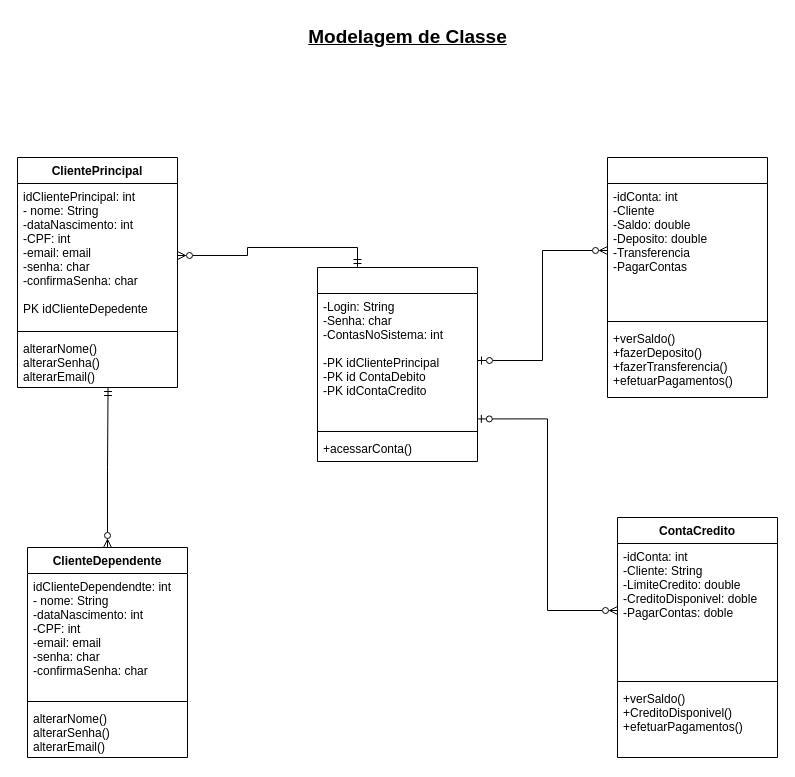
This 795x777 diagram has some shape labels left out. Here are the shapes that lost their labels. From the top down, the box of each, then its label:
(606, 156, 768, 398): ContaDebito
(316, 266, 478, 462): App
